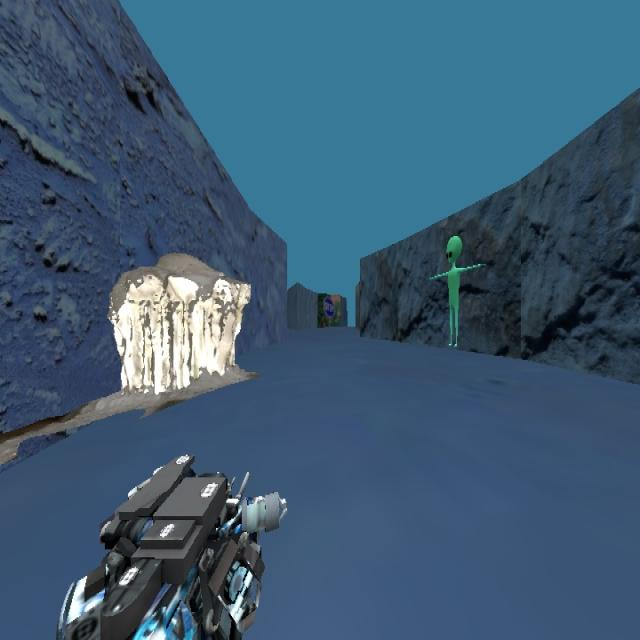Alien: (428, 233, 486, 348)
Ice: (65, 240, 271, 437)
Stop_Sign: (318, 290, 340, 326), (323, 295, 334, 317)
